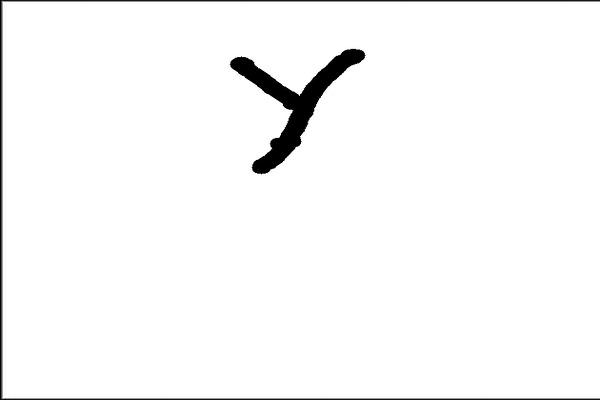Y: (224, 32, 375, 185)
